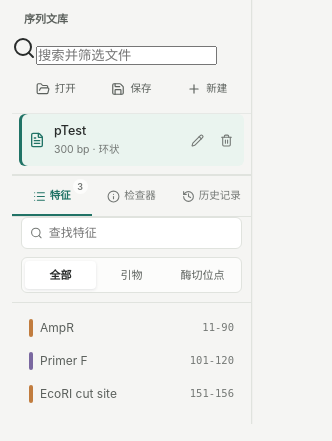
Test: Sidebar › gives the inspector room and keeps sequence files available on demand
The image size is (332, 441).
Click the button "检查器" at {"x": 132, "y": 196}, box [92,176,171,216]
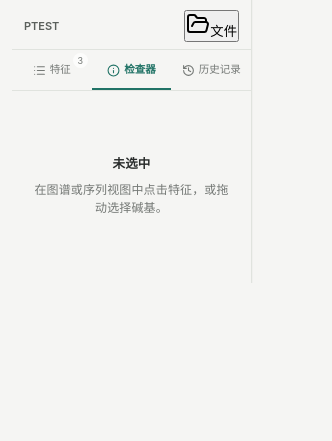
expect the search field labelled "搜索并筛选文件" is gone: met
Click the button with aria-label "展开序列文件" at {"x": 212, "y": 26}, box [184,10,239,42]
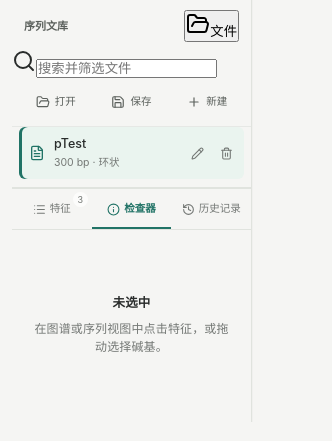
expect the search field labelled "搜索并筛选文件" is shown: met, box [36,59,217,78]
Click the button with aria-label "收起序列文件" at {"x": 212, "y": 26}, box [184,10,239,42]
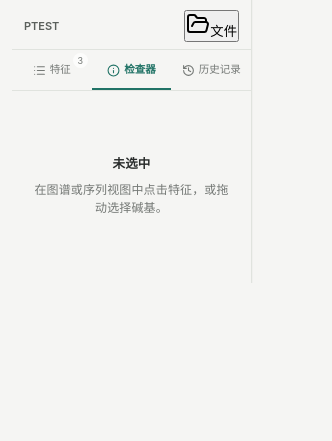
expect the search field labelled "搜索并筛选文件" is gone: met
Click the button "特征 3" at {"x": 52, "y": 70}, box [12,50,92,90]
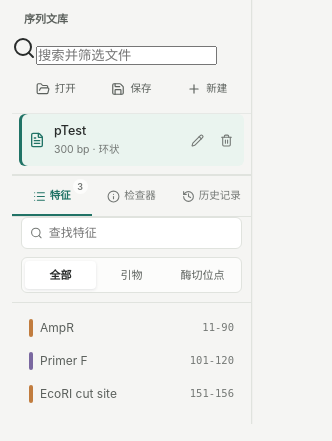
expect the search field labelled "搜索并筛选文件" is shown: met, box [36,46,217,65]
